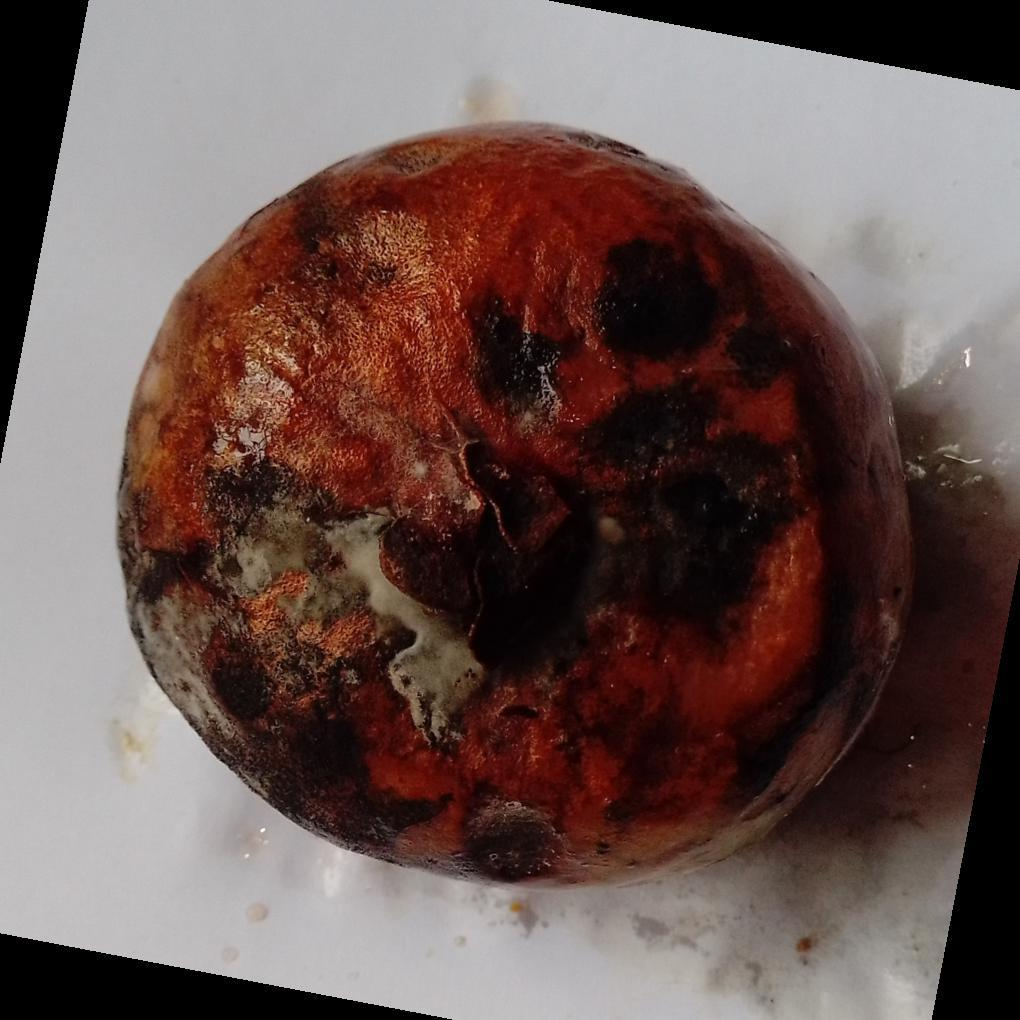FreshOrange: (113, 122, 916, 891)
